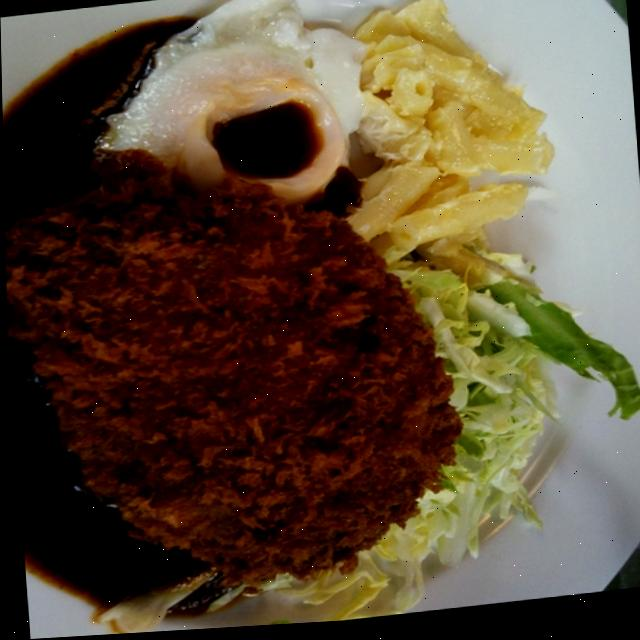炸货点心: (2, 77, 527, 625)
